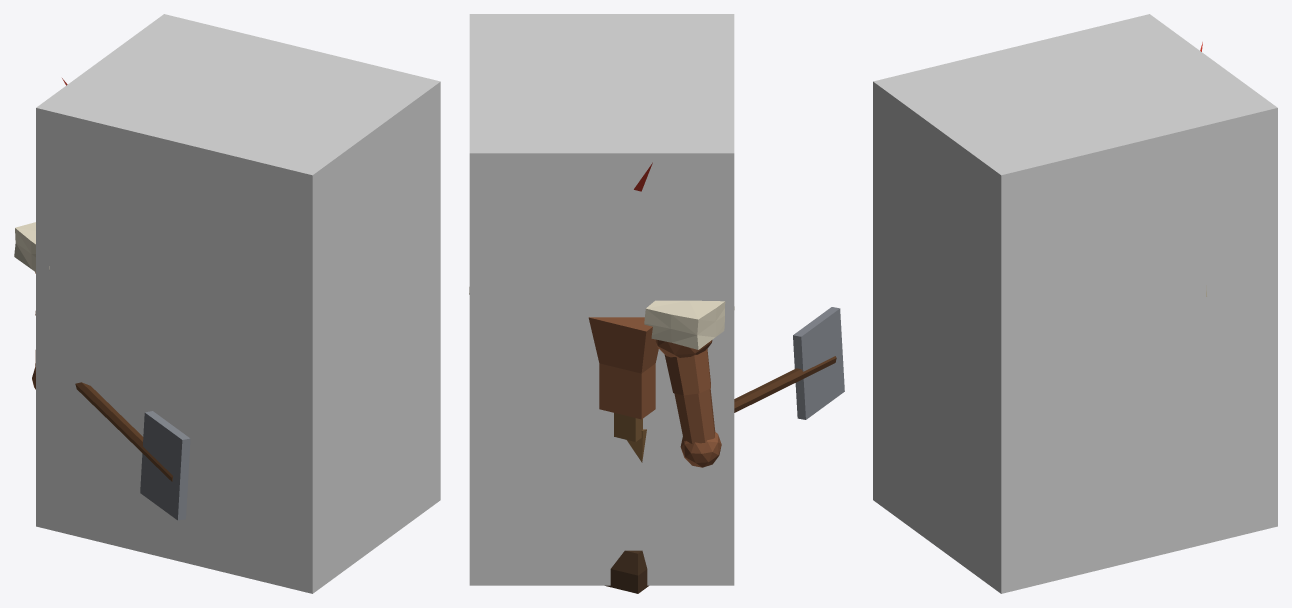
The model's file is jungle_tribal_warlord.fbx.
3 views of the same model, side by side, from view 1: azimuth 30°, elevation 25°; view 2: azimuth 150°, elevation 25°; view 3: azimuth 270°, elevation 25° (orthographic). The views are drawn at different scales.
Parts seen in each view (by area): view 1: Root__0.00_5.00_-2.40__5.55_10.00_6.92, ArmR__Torso__1.97_5.91_0.00, Torso__Root__0.00_3.74_0.00; view 2: Root__0.00_5.00_-2.40__5.55_10.00_6.92, ArmR__Torso__1.97_5.91_0.00, Torso__Root__0.00_3.74_0.00, LegR__Torso__0.76_3.57_0.00; view 3: Root__0.00_5.00_-2.40__5.55_10.00_6.92.
Part boxes in pixels (x1=…): Root__0.00_5.00_-2.40__5.55_10.00_6.92: x1=36, y1=14, x2=440, y2=593; ArmR__Torso__1.97_5.91_0.00: x1=32, y1=272, x2=190, y2=520; Torso__Root__0.00_3.74_0.00: x1=14, y1=222, x2=49, y2=272; Root__0.00_5.00_-2.40__5.55_10.00_6.92: x1=469, y1=14, x2=734, y2=585; ArmR__Torso__1.97_5.91_0.00: x1=655, y1=307, x2=844, y2=467; Torso__Root__0.00_3.74_0.00: x1=469, y1=287, x2=734, y2=441; LegR__Torso__0.76_3.57_0.00: x1=605, y1=429, x2=648, y2=593; Root__0.00_5.00_-2.40__5.55_10.00_6.92: x1=873, y1=14, x2=1277, y2=593.
Size of the model in its own units: 231 by 281 by 245.
1 material, 1 textured.
